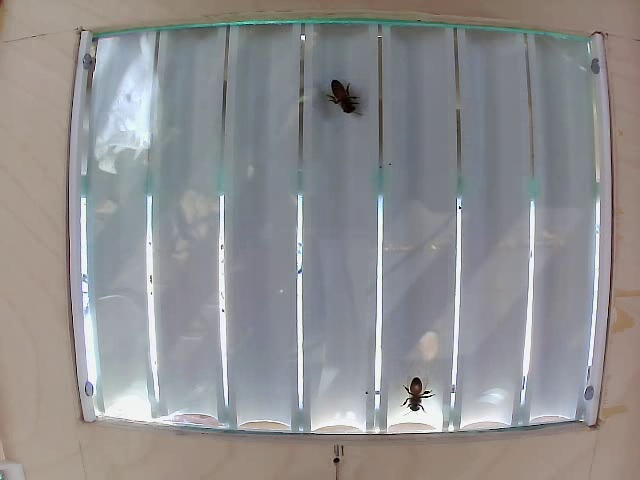bee: (328, 71, 368, 137), (406, 359, 441, 412)
